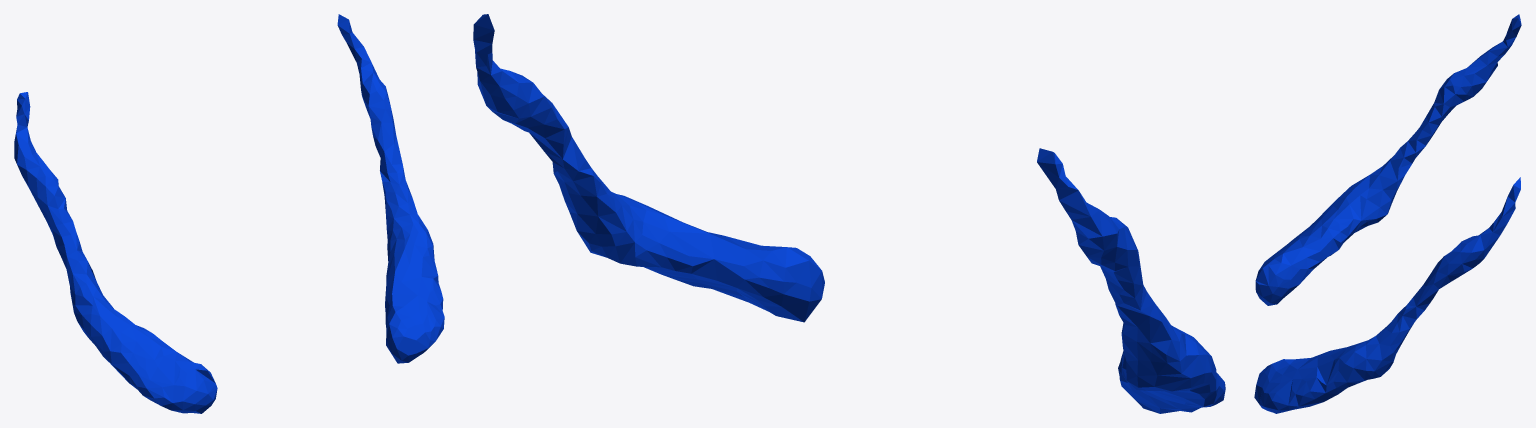
File: 46-PaS-parasubiculum-('0.0000', '0.3059', '1.0000').obj
3 renders of one model, left to right at view 1: azimuth 30°, elevation 25°; view 2: azimuth 150°, elevation 25°; view 3: azimuth 270°, elevation 25°, orthographic. The views are drawn at different scales.
Size of the model in its own units: 135 by 88.78 by 82.39.
